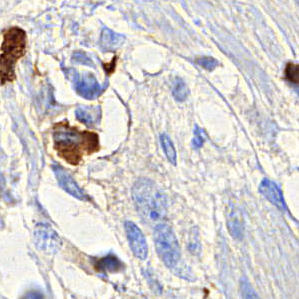Lymphocyte: (52, 120, 101, 165)
